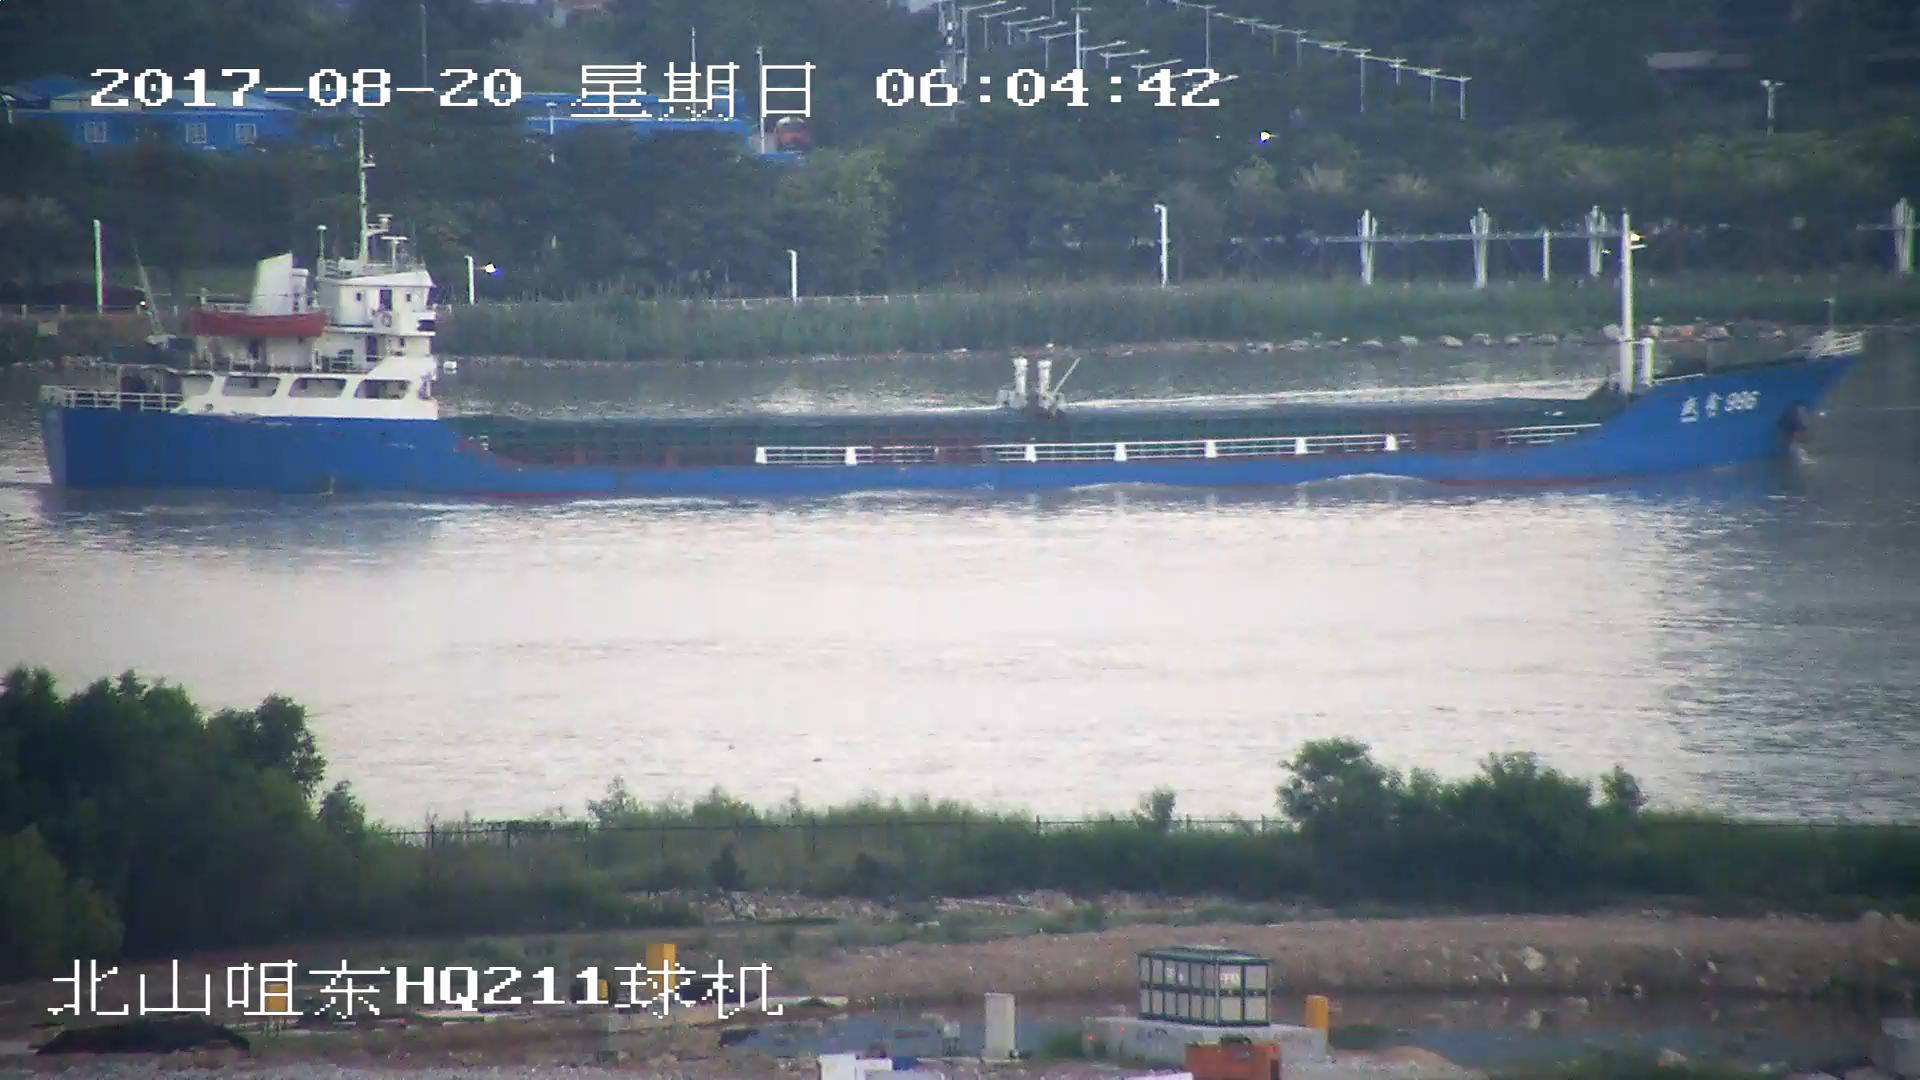general cargo ship: (31, 131, 1865, 500)
